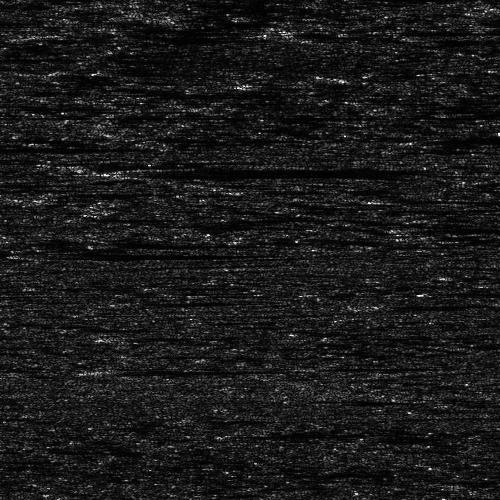object: (324, 300, 387, 309), (112, 160, 133, 179), (4, 251, 67, 256), (79, 368, 132, 373), (384, 225, 425, 230)
shadow: (123, 160, 358, 179), (0, 143, 131, 152), (35, 251, 217, 256), (356, 300, 457, 309), (106, 368, 245, 373), (405, 225, 500, 230), (0, 136, 44, 141), (0, 180, 43, 185)
